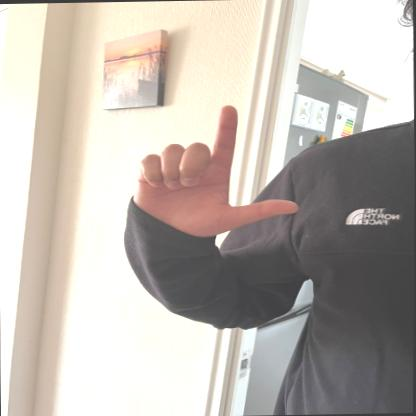L: (114, 100, 303, 249)
